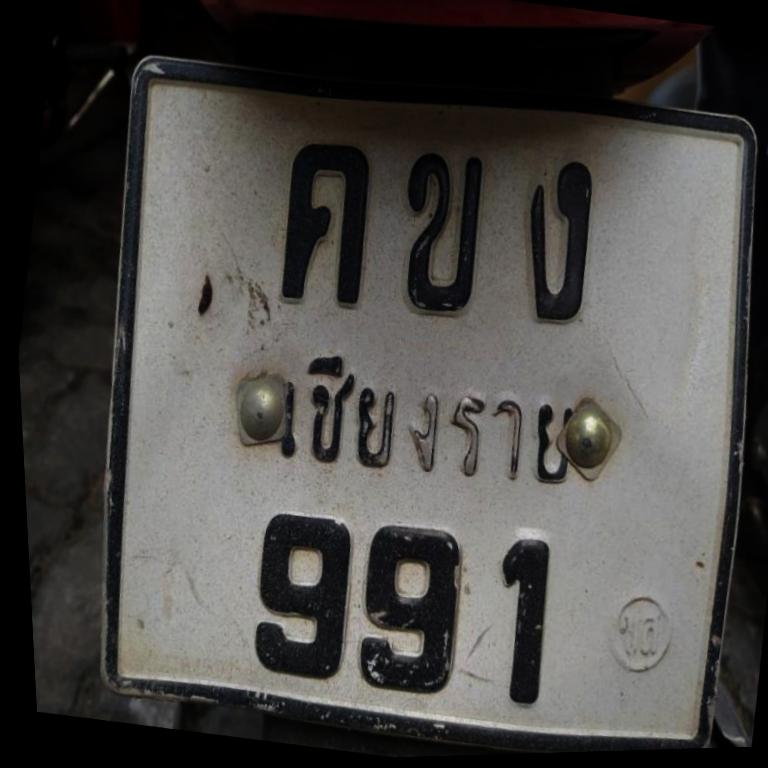license plate: (102, 59, 755, 751)
